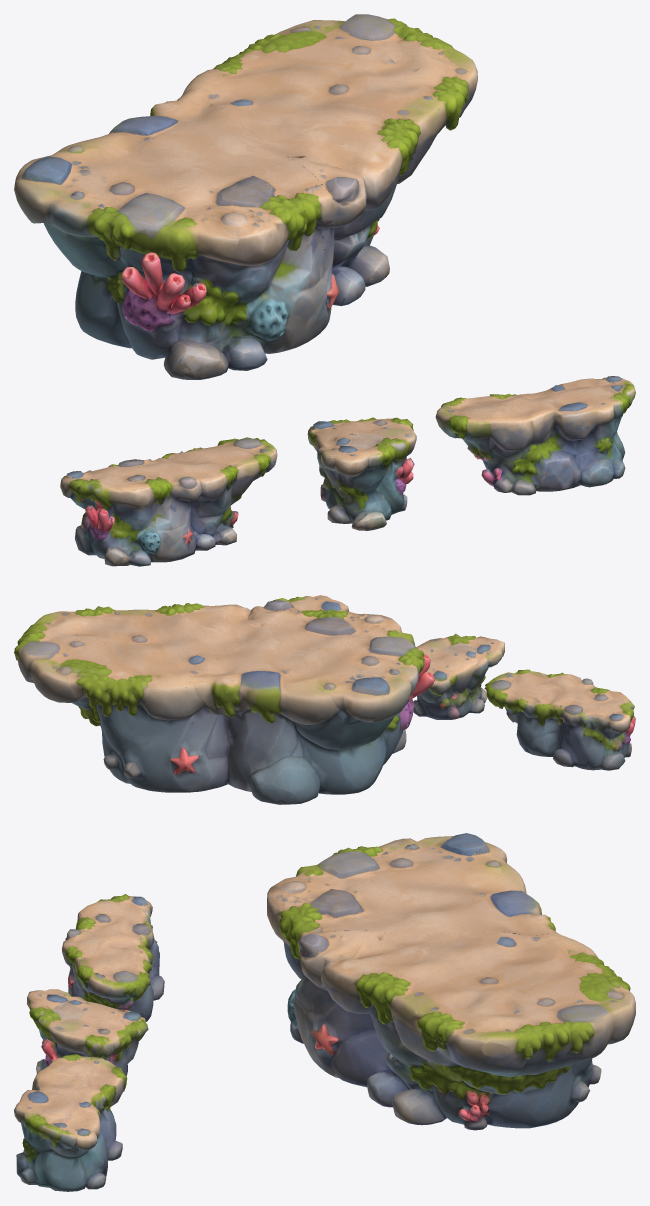
File: sand_shelf_set.glb
The picture shows the model from 3 angles, top to bottom: view 1: azimuth 30°, elevation 25°; view 2: azimuth 150°, elevation 25°; view 3: azimuth 270°, elevation 25°; orthographic projection. The views are drawn at different scales.
Parts seen in each view (by area): view 1: mesh_node; view 2: mesh_node; view 3: mesh_node.
Part boxes in pixels (box(x1,y1,x2,y2)): mesh_node: box(14, 14, 635, 566); mesh_node: box(14, 595, 635, 804); mesh_node: box(14, 833, 635, 1191).
Size of the model in its own units: 1.9 by 0.6496 by 1.86.
1 material, 1 textured.
